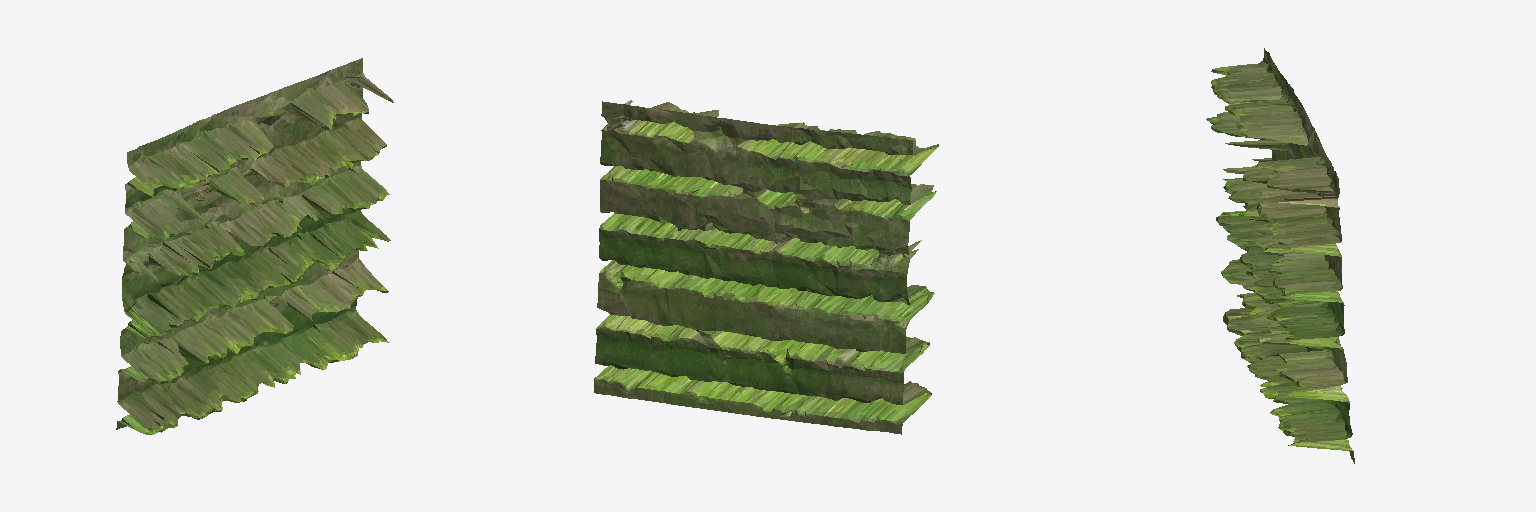
3 views of the same model, side by side, from view 1: azimuth 30°, elevation 25°; view 2: azimuth 150°, elevation 25°; view 3: azimuth 270°, elevation 25° (orthographic).
Parts seen in each view (by area): view 1: grp1; view 2: grp1; view 3: grp1.
Boxes of the visible parts, box(x1,y1,x2,y2) form: grp1: box(116, 58, 393, 434); grp1: box(594, 100, 938, 434); grp1: box(1206, 48, 1354, 463).
Size of the model in its own units: 10 by 10 by 4.75.
1 materials, 1 textured.